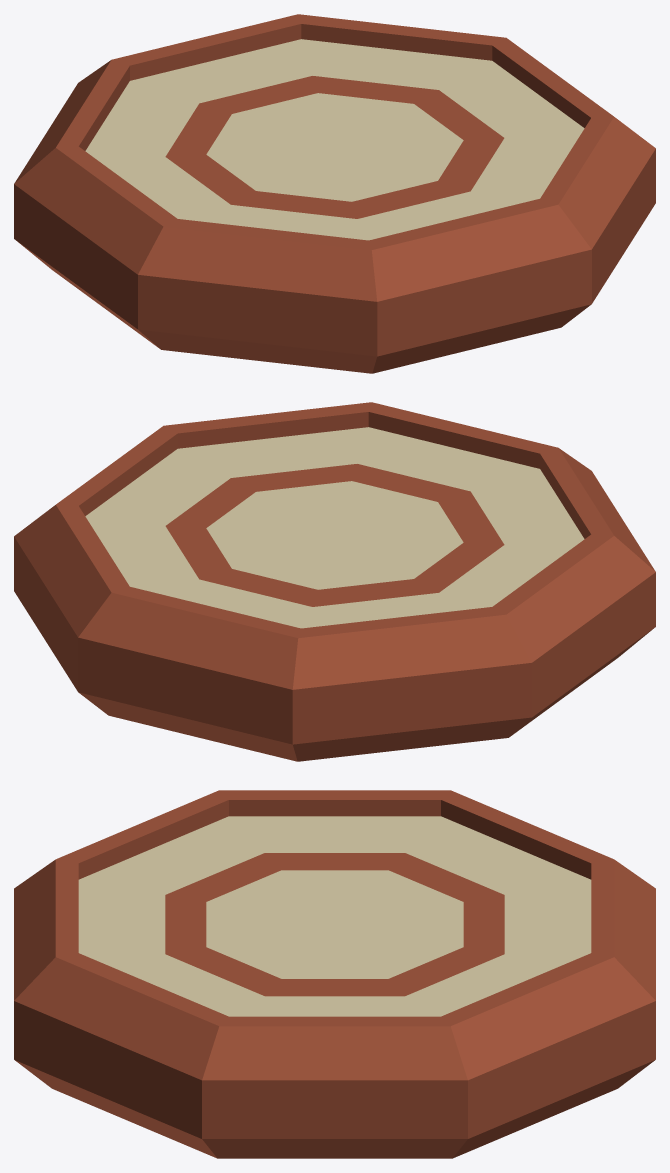
Rendered from lady.fbx.
3 renders of one model, top to bottom at view 1: azimuth 30°, elevation 25°; view 2: azimuth 150°, elevation 25°; view 3: azimuth 270°, elevation 25°, orthographic. The views are drawn at different scales.
Parts seen in each view (by area): view 1: Cylinder_5; view 2: Cylinder_5; view 3: Cylinder_5.
Boxes of the visible parts, <box> form: Cylinder_5: <box>14,14,655,373</box>; Cylinder_5: <box>14,402,655,761</box>; Cylinder_5: <box>14,790,655,1158</box>.
Bounding box in the file's own units: 126 × 28.32 × 126.
